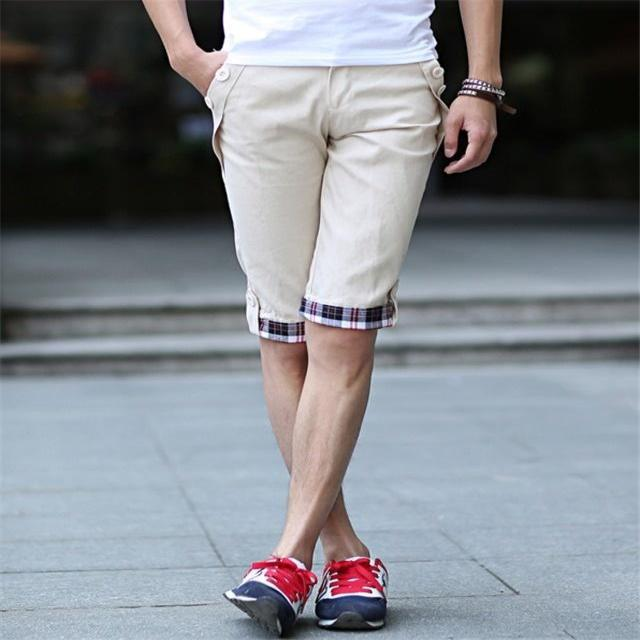shorts: (175, 31, 510, 417)
